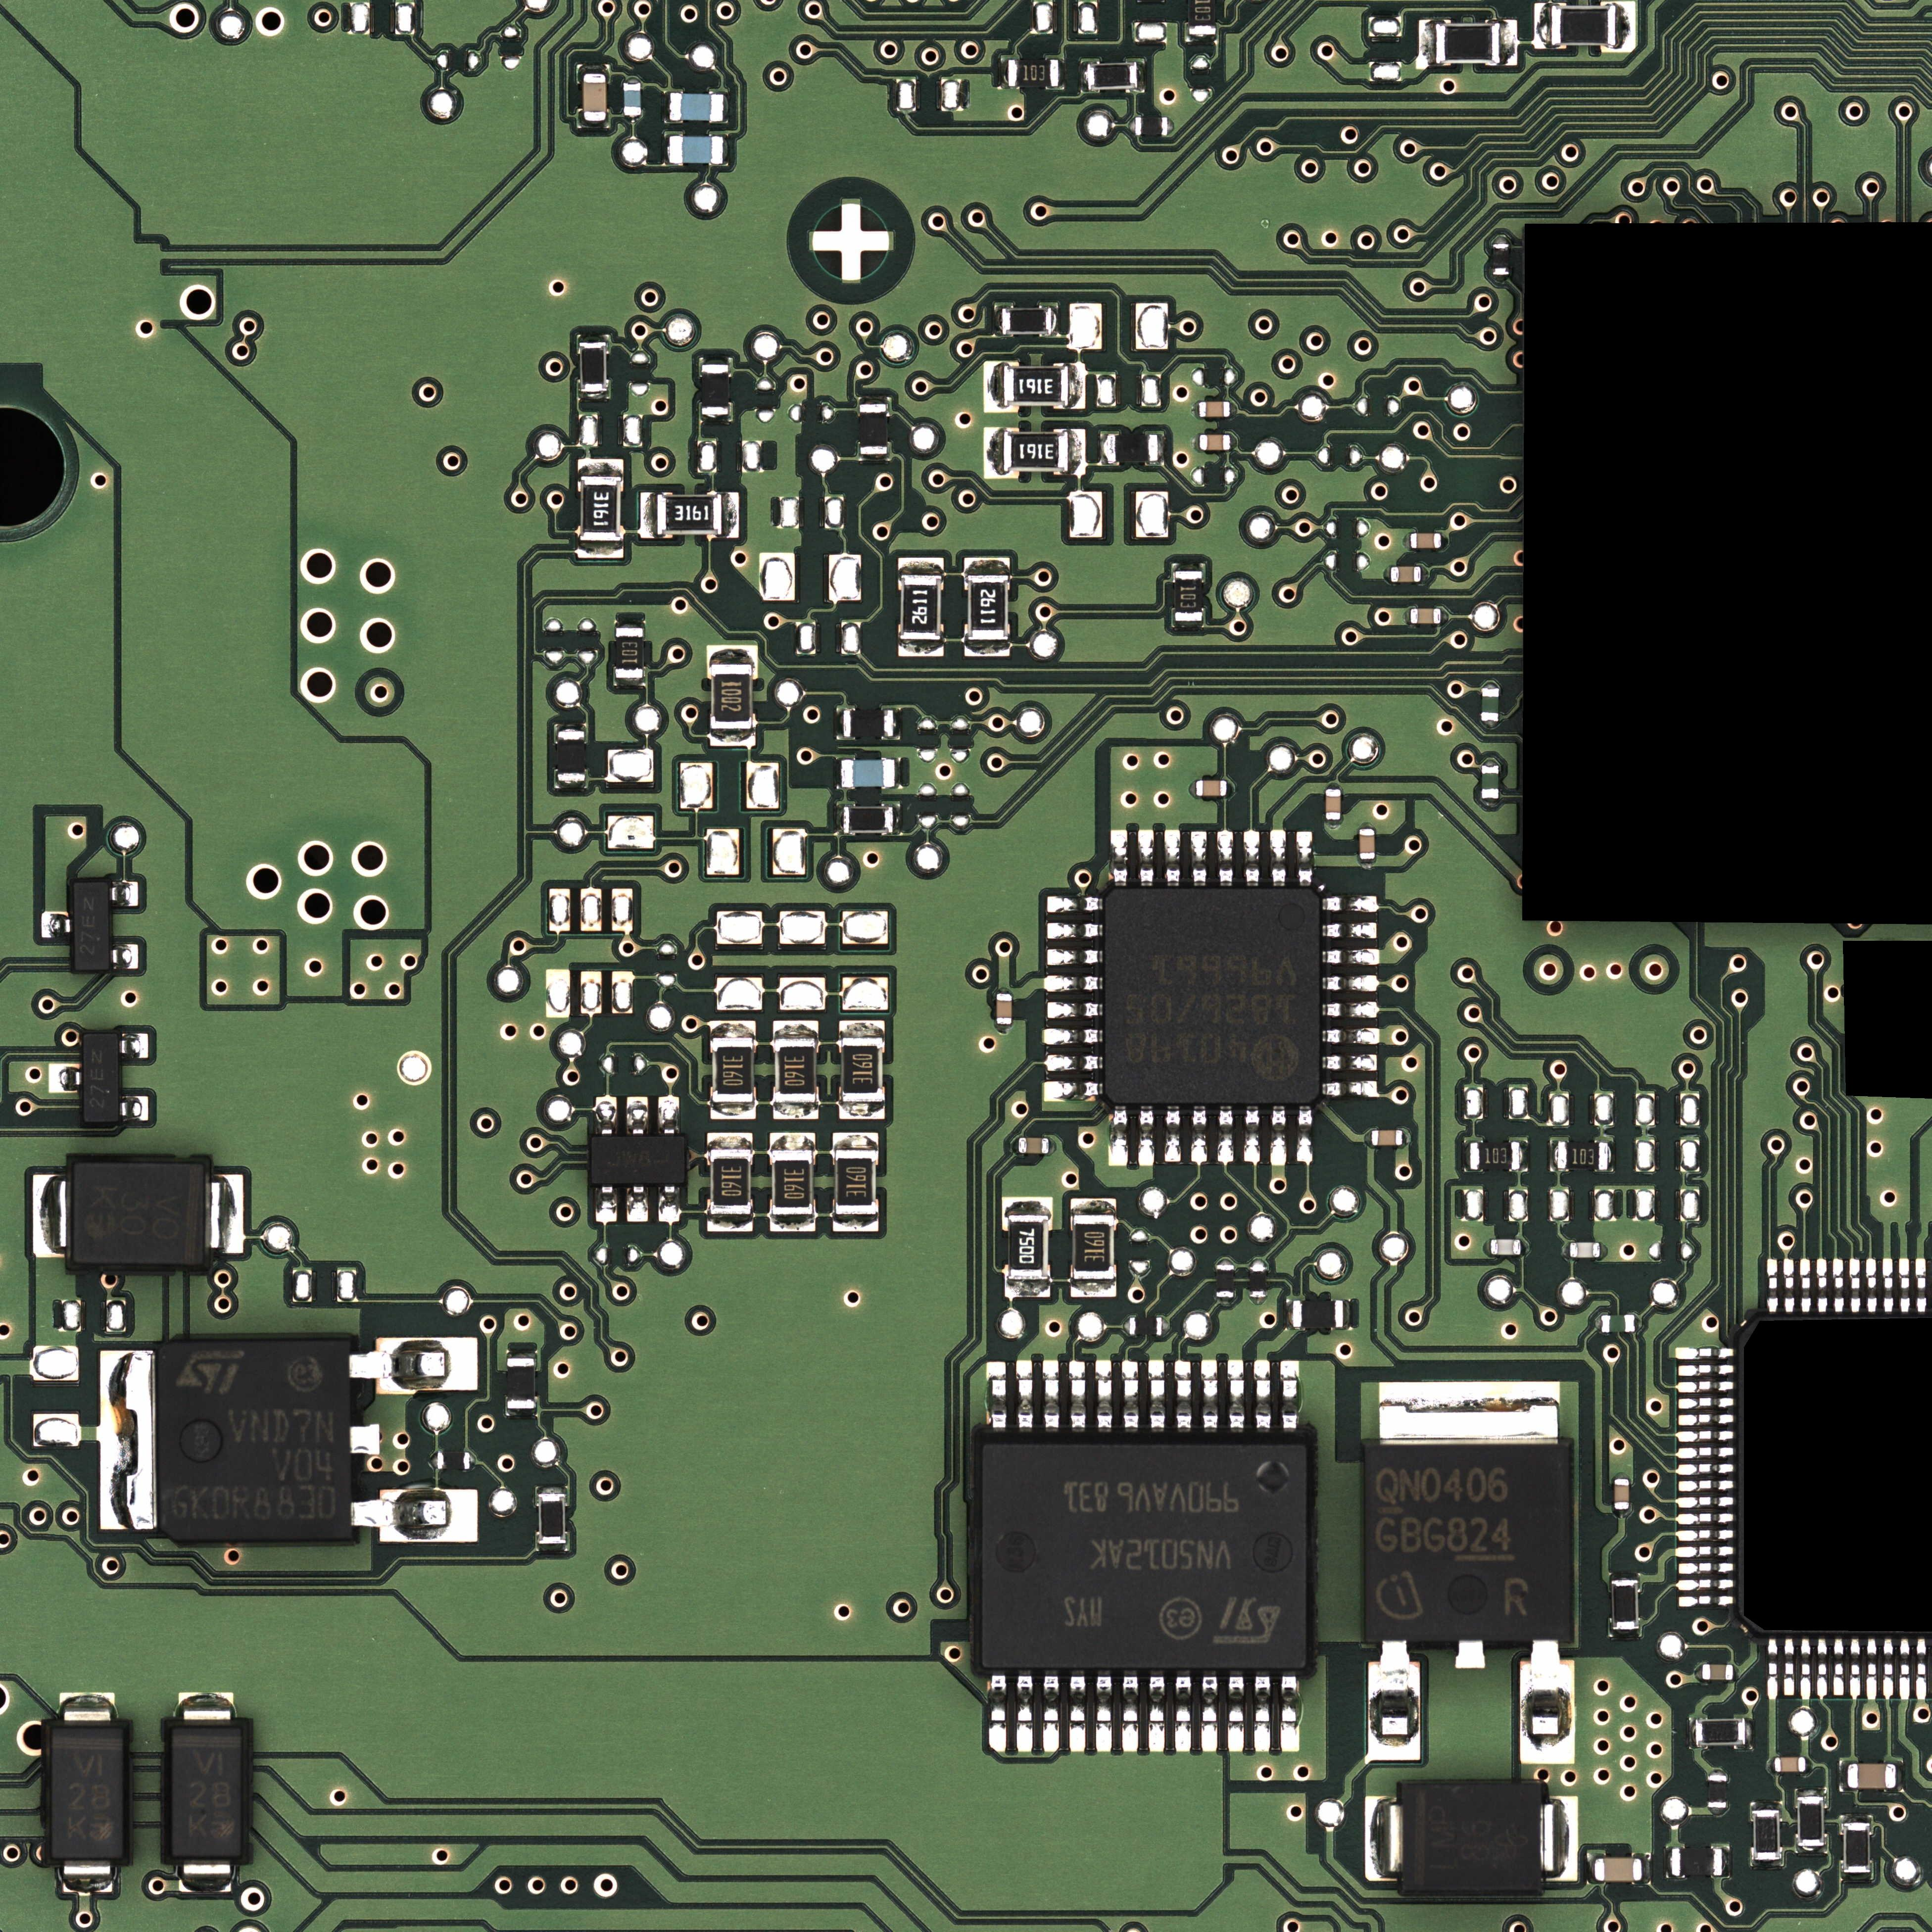Package: (982, 1444, 1307, 1668), (1104, 888, 1322, 1104), (1366, 1442, 1573, 1642), (157, 1341, 350, 1539), (1403, 1783, 1539, 1891), (73, 1162, 205, 1265), (51, 1727, 126, 1859), (170, 1727, 244, 1858), (591, 1136, 686, 1185), (81, 1033, 120, 1123), (73, 881, 110, 971), (711, 1039, 754, 1102), (840, 1039, 883, 1102), (1072, 1215, 1115, 1279), (901, 575, 941, 640), (711, 663, 752, 729), (580, 476, 621, 541), (771, 1150, 812, 1215), (835, 1150, 876, 1215), (968, 575, 1008, 640), (1003, 366, 1069, 407), (1003, 432, 1069, 472), (709, 1150, 750, 1214), (775, 1039, 816, 1102), (1437, 23, 1500, 64), (1552, 5, 1615, 46), (1007, 1215, 1047, 1279), (656, 495, 722, 534), (840, 759, 895, 787), (669, 94, 724, 122), (1106, 433, 1157, 464), (669, 136, 724, 163), (1292, 1300, 1343, 1329), (616, 628, 644, 678), (844, 709, 893, 738), (701, 364, 729, 414), (860, 403, 888, 453), (557, 731, 586, 780), (1175, 571, 1203, 621), (1672, 1849, 1723, 1875), (1468, 1143, 1520, 1169), (1557, 1143, 1608, 1169), (844, 807, 893, 833), (508, 1359, 534, 1408), (1001, 308, 1051, 334), (1008, 60, 1058, 87), (1844, 1822, 1870, 1872), (1695, 1720, 1744, 1746), (1612, 1580, 1638, 1629), (1753, 1810, 1780, 1859), (1798, 1798, 1824, 1845), (540, 1493, 564, 1543), (1847, 1764, 1897, 1789), (580, 343, 605, 391), (1088, 64, 1136, 88), (1594, 1858, 1642, 1882), (582, 74, 607, 120), (1129, 1316, 1162, 1336), (1136, 117, 1168, 136), (1481, 764, 1499, 798), (1481, 688, 1499, 722), (1601, 1315, 1635, 1332), (1709, 1775, 1727, 1808), (1491, 244, 1511, 274), (623, 83, 640, 115), (437, 1453, 469, 1470), (1217, 1265, 1235, 1297), (1359, 828, 1375, 860), (1410, 533, 1442, 548), (1371, 1131, 1403, 1146), (1702, 1665, 1734, 1681), (996, 994, 1012, 1024), (1391, 566, 1421, 582), (1325, 789, 1341, 819), (1200, 402, 1230, 418), (1200, 433, 1230, 449), (1196, 780, 1226, 796), (1410, 609, 1440, 625), (1019, 1138, 1049, 1154), (1491, 1238, 1522, 1254), (1614, 1479, 1629, 1509), (1569, 1242, 1599, 1258), (1775, 1757, 1805, 1773), (1251, 1267, 1267, 1297)
Solder: (1378, 1382, 1559, 1442), (99, 1350, 156, 1529), (350, 1338, 478, 1394), (352, 1488, 478, 1543), (1520, 1640, 1575, 1764), (1368, 1642, 1421, 1760), (32, 1175, 73, 1258), (1541, 1796, 1578, 1882), (1364, 1796, 1401, 1881), (205, 1175, 244, 1254), (179, 1858, 234, 1893), (179, 1693, 235, 1725), (60, 1693, 115, 1725), (64, 1861, 115, 1893), (1281, 1675, 1300, 1752), (989, 1674, 1007, 1753), (1095, 1675, 1113, 1753), (1122, 1675, 1139, 1753), (1016, 1675, 1033, 1753), (1069, 1675, 1086, 1753), (1148, 1675, 1166, 1753), (987, 1361, 1007, 1430), (1044, 1079, 1102, 1100), (1175, 1675, 1191, 1753), (1044, 1675, 1060, 1753), (1228, 1675, 1244, 1753), (1281, 1361, 1299, 1430), (1254, 1675, 1270, 1752), (1201, 1675, 1217, 1752), (1109, 1108, 1129, 1166), (1254, 1359, 1270, 1430), (1201, 1359, 1217, 1430), (1228, 1359, 1244, 1430), (1148, 1359, 1164, 1430), (1175, 1361, 1191, 1430), (1017, 1361, 1033, 1430), (1122, 1361, 1138, 1430), (1069, 1361, 1085, 1430), (984, 426, 1003, 479), (1044, 1028, 1102, 1046), (1044, 975, 1102, 993), (1044, 1054, 1102, 1072), (1322, 895, 1378, 913), (1322, 922, 1378, 939), (1323, 948, 1380, 966), (1323, 1028, 1380, 1046), (1046, 1001, 1102, 1019), (1323, 975, 1380, 993), (984, 361, 1003, 412), (1097, 1361, 1111, 1430), (1044, 1361, 1058, 1430), (1047, 922, 1102, 939), (1047, 948, 1102, 966), (1323, 1054, 1378, 1072), (1323, 1001, 1378, 1019), (1617, 2, 1637, 51), (50, 1063, 81, 1093), (350, 1422, 380, 1454), (1244, 1106, 1260, 1166), (1270, 1106, 1286, 1166), (1138, 1108, 1154, 1166), (1297, 1108, 1313, 1166), (1191, 1106, 1207, 1164), (1166, 1106, 1182, 1164), (1001, 1198, 1053, 1215), (1270, 830, 1286, 886), (1191, 830, 1207, 886), (1111, 830, 1127, 886), (1217, 830, 1233, 886), (1138, 830, 1154, 886), (1244, 830, 1260, 886), (1217, 1108, 1233, 1164), (1322, 1081, 1378, 1097), (708, 646, 757, 663), (1297, 832, 1313, 886), (1047, 897, 1102, 913), (1164, 830, 1180, 885), (1456, 1640, 1484, 1670), (577, 541, 625, 559), (596, 1097, 617, 1136), (626, 1097, 648, 1136), (577, 458, 623, 476), (722, 492, 740, 538), (709, 729, 755, 747), (709, 1102, 755, 1120), (839, 1102, 885, 1120), (770, 1132, 816, 1150), (833, 1132, 879, 1150), (708, 1132, 754, 1150), (773, 1021, 819, 1039), (1069, 430, 1086, 476), (964, 557, 1010, 575), (1070, 1279, 1116, 1297), (1500, 19, 1518, 65), (41, 911, 71, 938), (658, 1097, 679, 1134), (596, 1185, 617, 1223), (658, 1185, 679, 1223), (626, 1185, 648, 1223), (899, 557, 943, 575), (706, 1215, 754, 1231), (832, 1215, 879, 1231), (1419, 19, 1435, 67), (640, 492, 656, 538), (899, 640, 945, 656), (773, 1104, 819, 1120), (770, 1215, 816, 1231), (709, 1021, 755, 1037), (839, 1021, 885, 1037), (1069, 363, 1085, 409), (964, 640, 1010, 656), (1070, 1198, 1116, 1214), (1005, 1281, 1051, 1297), (1534, 4, 1550, 50), (1675, 1430, 1734, 1442), (120, 1033, 149, 1058), (120, 1095, 149, 1120), (1677, 1545, 1734, 1557), (1767, 1637, 1778, 1700), (1783, 1637, 1794, 1700), (1867, 1637, 1877, 1700), (1882, 1637, 1893, 1700), (1900, 1637, 1911, 1700), (111, 945, 138, 970), (111, 881, 138, 906), (1817, 1637, 1828, 1698), (1801, 1637, 1812, 1698), (1833, 1638, 1844, 1700), (1849, 1638, 1859, 1700), (1675, 1348, 1734, 1359), (1679, 1596, 1736, 1606), (1677, 1514, 1734, 1525), (1677, 1530, 1734, 1541), (1677, 1447, 1734, 1458), (1679, 1580, 1734, 1591), (1679, 1562, 1734, 1573), (1677, 1481, 1732, 1491), (1677, 1497, 1732, 1507), (1677, 1364, 1732, 1375), (1677, 1382, 1732, 1392), (1677, 1398, 1732, 1408), (1677, 1415, 1732, 1426), (1900, 1258, 1911, 1313), (1916, 1637, 1925, 1700), (1767, 1260, 1778, 1313), (1783, 1260, 1794, 1313), (1801, 1260, 1812, 1313), (1817, 1260, 1828, 1313), (1884, 1258, 1895, 1311), (1867, 1258, 1877, 1311), (1851, 1258, 1861, 1311), (1833, 1258, 1844, 1311), (1916, 1258, 1927, 1311), (1677, 1465, 1734, 1474), (998, 57, 1008, 88), (1343, 1299, 1353, 1329), (577, 120, 610, 129), (1608, 1629, 1642, 1638), (1840, 1872, 1874, 1881), (614, 678, 646, 686), (506, 1408, 538, 1417), (1079, 60, 1088, 92), (993, 304, 1001, 336), (1173, 563, 1205, 571), (1520, 1139, 1529, 1171), (1744, 1716, 1753, 1748), (1840, 1813, 1872, 1822), (1752, 1859, 1783, 1868), (1642, 1852, 1651, 1884), (1897, 1760, 1905, 1792), (1750, 1801, 1782, 1810), (579, 64, 609, 73), (835, 805, 844, 835), (506, 1350, 536, 1359), (1838, 1760, 1847, 1790), (699, 416, 732, 423), (662, 90, 669, 124), (1099, 432, 1106, 465), (1157, 432, 1164, 465), (1665, 1845, 1672, 1879), (858, 396, 890, 403), (577, 334, 609, 341), (858, 455, 890, 462), (724, 92, 731, 124), (662, 133, 669, 165), (893, 708, 901, 740), (536, 1545, 568, 1552), (536, 1486, 568, 1493), (1171, 621, 1203, 628), (1286, 1299, 1293, 1330), (1550, 1139, 1557, 1171), (1587, 1852, 1594, 1884), (1796, 1847, 1828, 1854), (1688, 1716, 1695, 1748), (1723, 1845, 1730, 1877), (1185, 35, 1217, 42), (701, 357, 731, 364), (579, 393, 609, 400), (556, 782, 586, 789), (893, 803, 901, 833), (556, 724, 586, 731), (1051, 304, 1058, 334), (1138, 60, 1145, 90), (1058, 58, 1065, 88), (1463, 1141, 1470, 1171), (1610, 1573, 1640, 1580), (1796, 1789, 1826, 1796), (616, 619, 644, 626), (1491, 235, 1511, 244), (837, 708, 842, 740), (835, 757, 840, 789), (1608, 1139, 1614, 1171), (724, 134, 729, 165), (895, 757, 901, 787), (1483, 798, 1500, 807), (1226, 780, 1235, 796), (1483, 679, 1499, 688), (1215, 1297, 1235, 1304), (1481, 722, 1500, 729), (1707, 1808, 1727, 1815), (1192, 433, 1200, 451), (1162, 1318, 1169, 1336), (1249, 1260, 1267, 1267), (1249, 1297, 1267, 1304), (1491, 276, 1509, 283), (1635, 1315, 1642, 1332), (1599, 1244, 1608, 1258), (1483, 1240, 1491, 1254), (430, 1453, 437, 1468), (625, 115, 640, 122), (1230, 402, 1237, 418), (1230, 433, 1237, 449), (1359, 823, 1375, 830), (1384, 566, 1391, 582), (1403, 609, 1410, 625), (1189, 780, 1196, 796), (1325, 819, 1341, 826), (1421, 566, 1428, 582), (1012, 1138, 1019, 1154), (1403, 1131, 1410, 1146), (996, 987, 1012, 994), (1049, 1138, 1056, 1154), (996, 1024, 1012, 1031), (1483, 759, 1499, 766), (1440, 533, 1447, 548), (1442, 609, 1449, 625), (1562, 1242, 1569, 1258), (1614, 1472, 1629, 1479), (1364, 1131, 1371, 1145), (1522, 1240, 1529, 1254), (471, 1453, 476, 1470), (1709, 1769, 1727, 1775), (625, 78, 640, 83), (1192, 402, 1198, 418), (1131, 119, 1136, 134), (1168, 119, 1173, 134), (1325, 784, 1341, 789), (1359, 860, 1375, 865), (1405, 533, 1410, 548), (1217, 1260, 1233, 1265), (1123, 1318, 1129, 1334), (1596, 1316, 1601, 1332), (1614, 1509, 1629, 1514), (1734, 1665, 1739, 1681), (1806, 1757, 1812, 1773), (1769, 1757, 1775, 1773), (1698, 1665, 1702, 1681)
